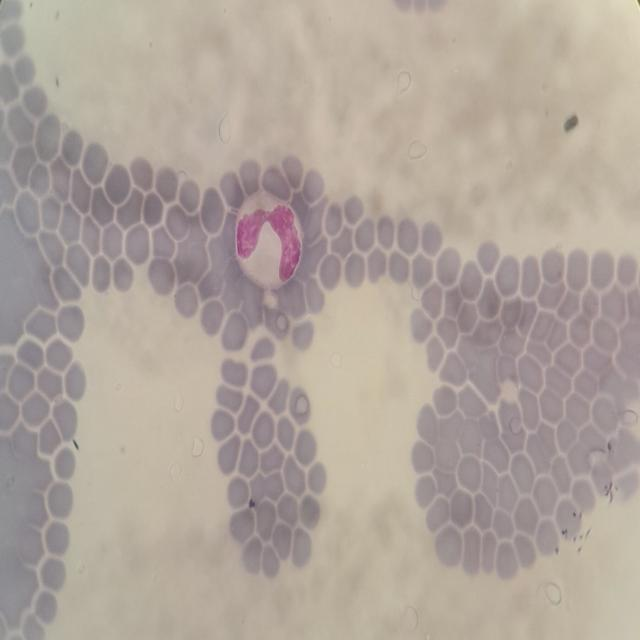Neutrofilo: (235, 187, 304, 291)
